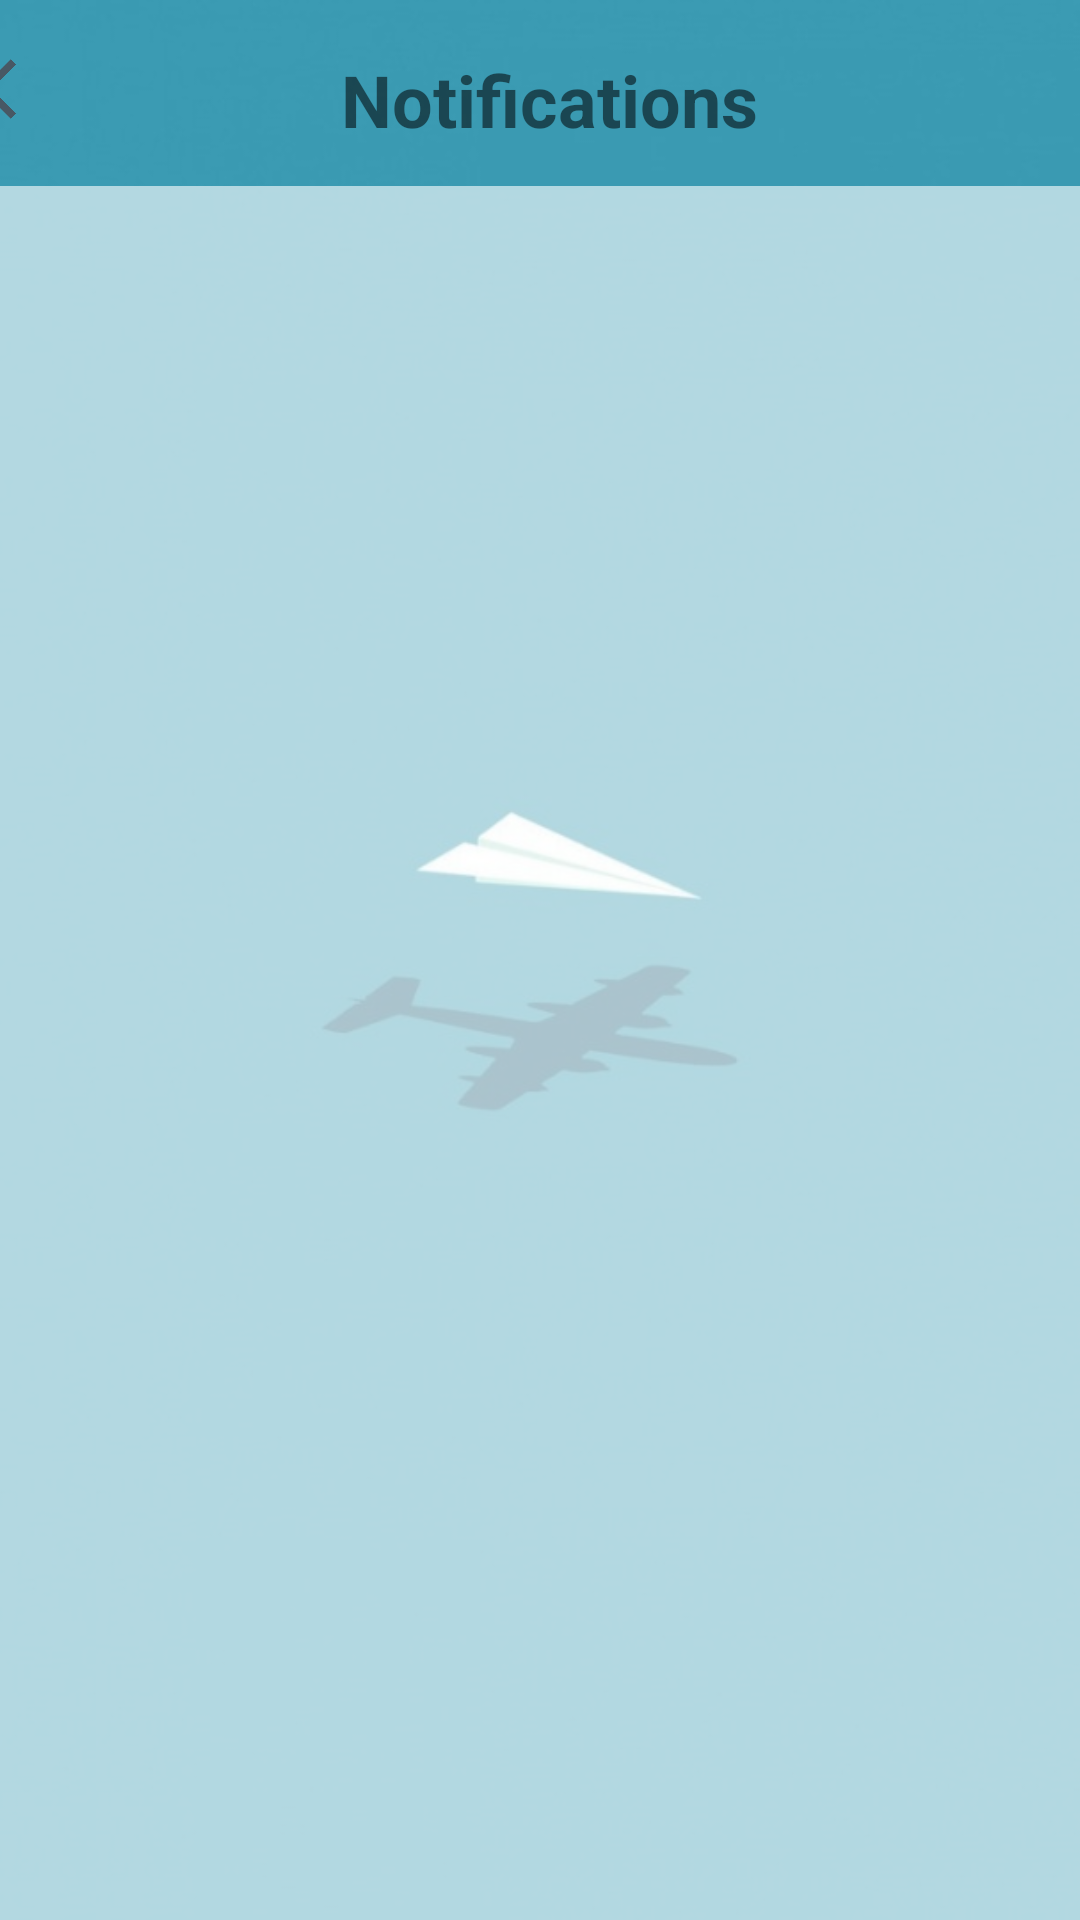

Named icons in this screenshot (1080x1920) and their bounding boxes, rect(x1, y1, x2, y2):
arrow back: rect(0, 59, 16, 119)
